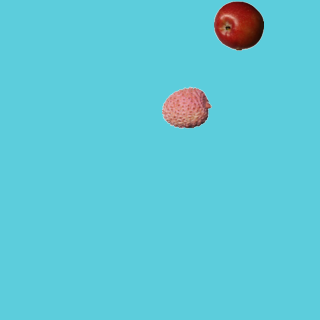Apple Braeburn: (213, 0, 263, 50)
Lychee: (161, 82, 211, 132)
